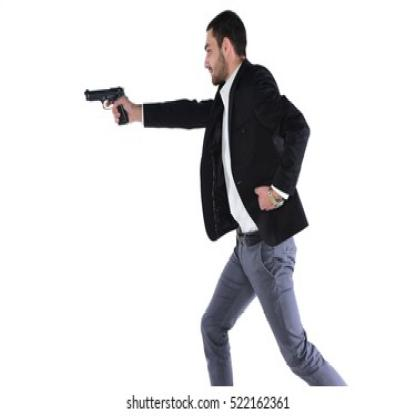handgun: (86, 86, 131, 126)
